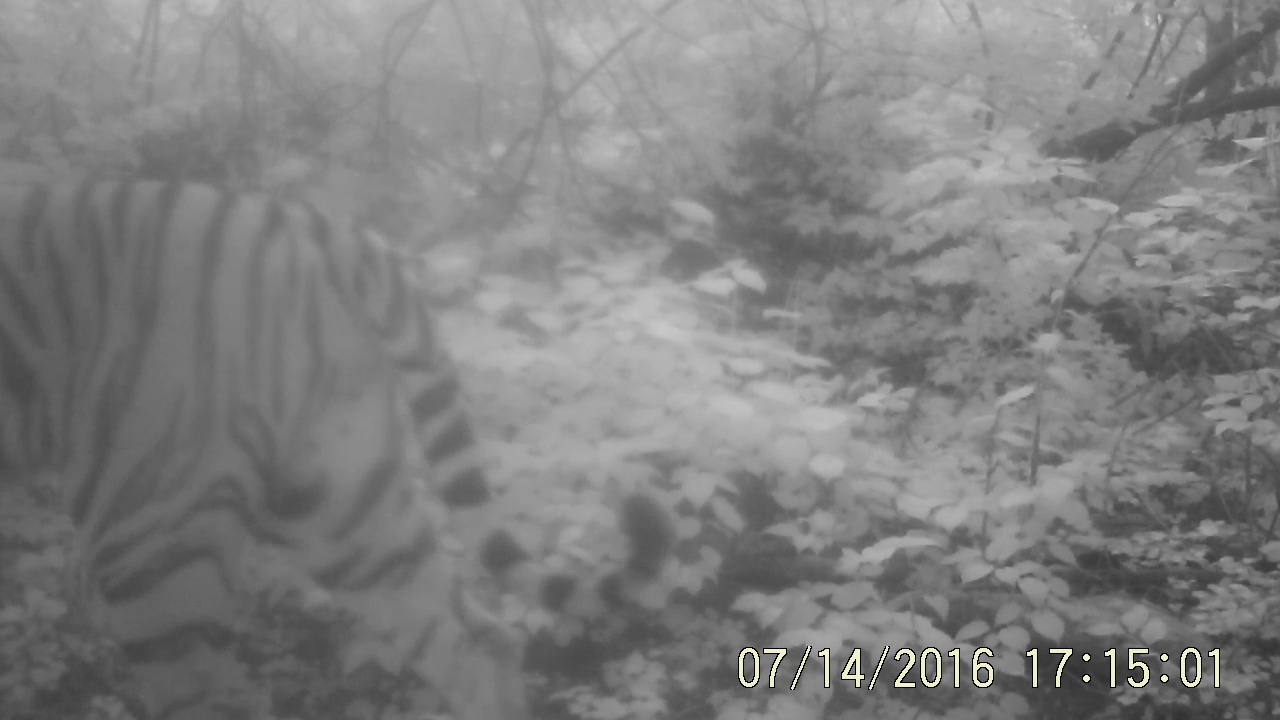Tiger: (4, 29, 601, 720)
